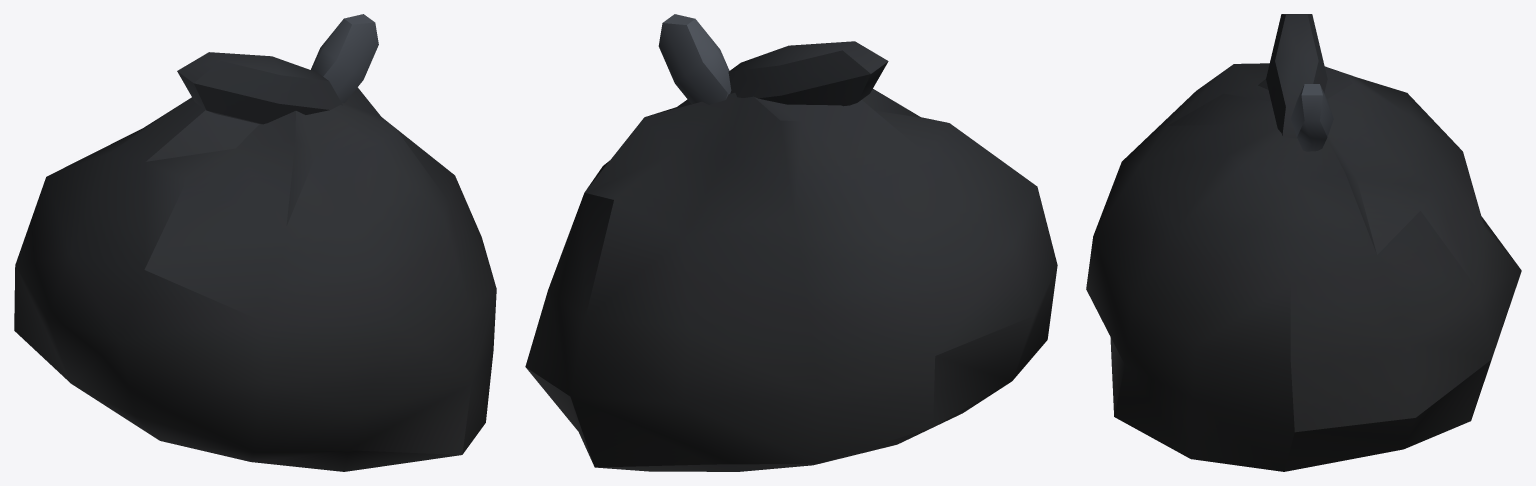
The model's file is 05b_sac_poubelle.fbx.
3 renders of one model, left to right at view 1: azimuth 30°, elevation 25°; view 2: azimuth 150°, elevation 25°; view 3: azimuth 270°, elevation 25°, orthographic. The views are drawn at different scales.
Visible parts, largest first — view 1: Sac; view 2: Sac; view 3: Sac.
Part boxes in pixels (x1,y1,x2,y2): Sac: (14,14,496,471); Sac: (525,14,1057,471); Sac: (1086,14,1521,471).
Bounding box in the file's own units: 0.42 × 0.364 × 0.392.
1 material, 1 textured.
